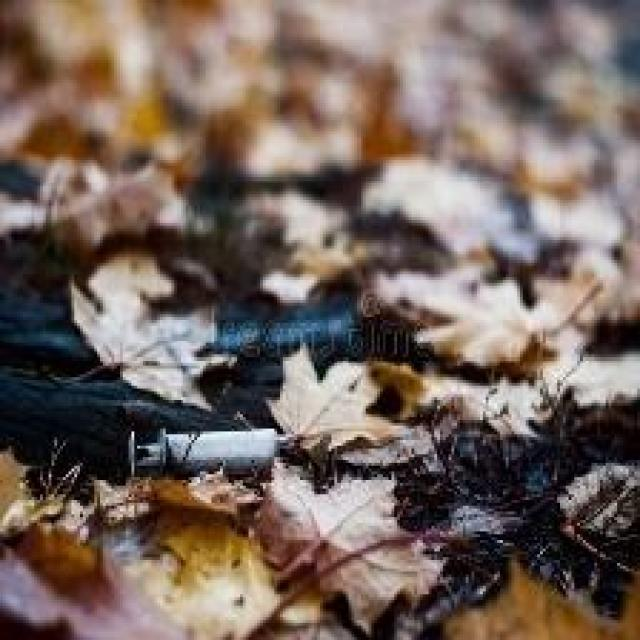syringe: (118, 396, 391, 514)
